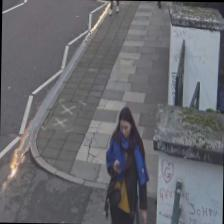person: (104, 106, 148, 224)
